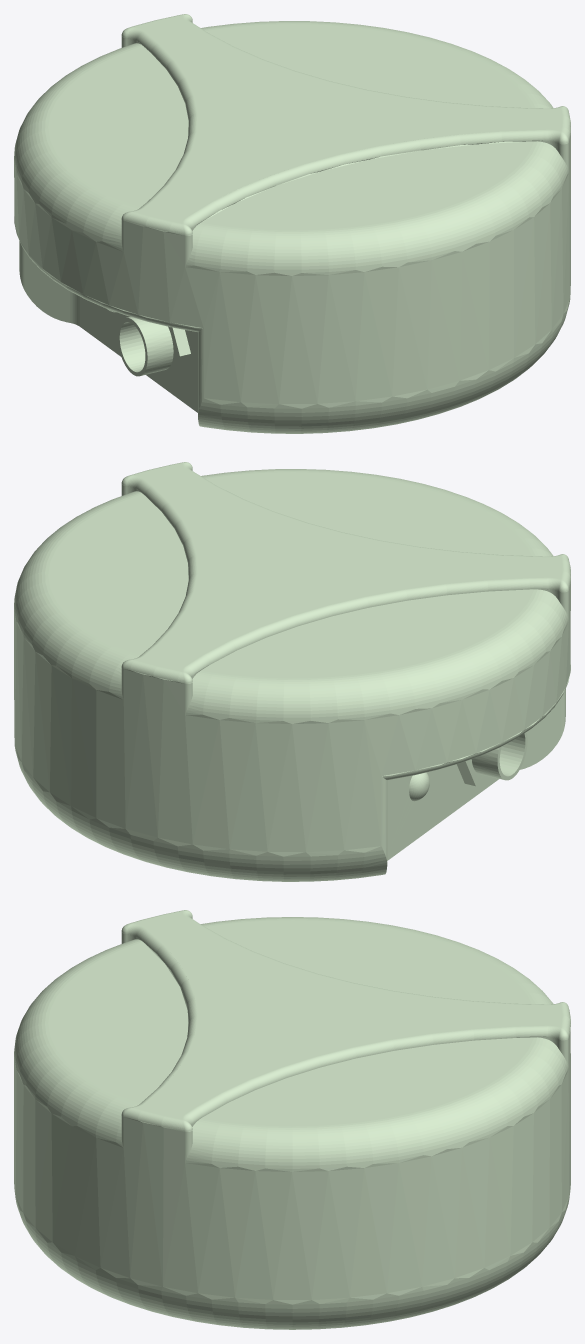
The model's file is gps.dae.
The picture shows the model from 3 angles, top to bottom: view 1: azimuth 30°, elevation 25°; view 2: azimuth 150°, elevation 25°; view 3: azimuth 270°, elevation 25°; orthographic projection.
Visible parts, largest first — view 1: Gps; view 2: Gps; view 3: Gps.
Part boxes in pixels (<box>): Gps: <box>14,14,570,433</box>; Gps: <box>14,462,570,881</box>; Gps: <box>14,910,570,1329</box>.
Size of the model in its own units: 130 by 130 by 55.
